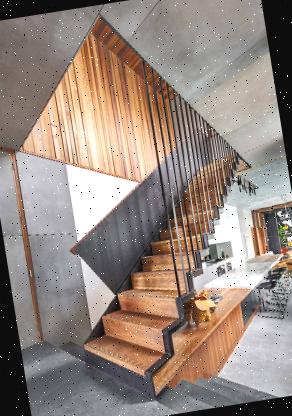stair: (57, 156, 268, 406)
